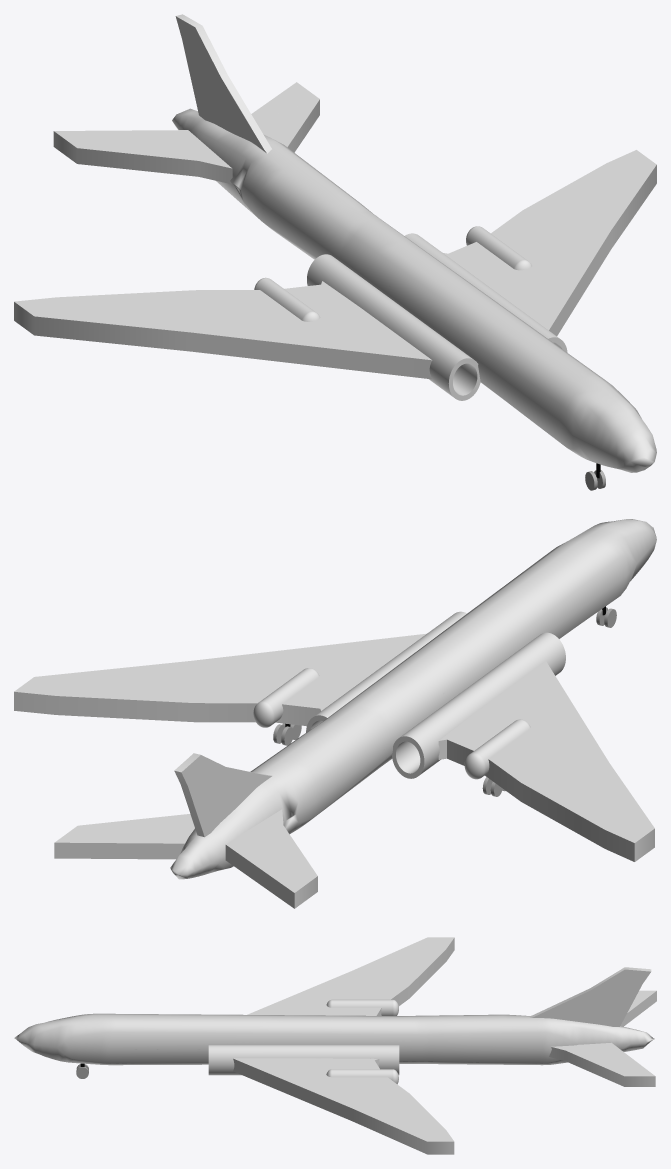
The model's file is geofs tupolev 104.glb.
3 views of the same model, one above another, from view 1: azimuth 30°, elevation 25°; view 2: azimuth 150°, elevation 25°; view 3: azimuth 270°, elevation 25° (orthographic). The views are drawn at different scales.
Visible parts, largest first — view 1: object 9, object 13, object 7, object 5, object 11, object 4, object 6, object 10, object 8, object 12; view 2: object 9, object 7, object 13, object 11, object 6, object 5, object 4, object 10, object 8, object 12; view 3: object 9, object 7, object 13, object 4, object 10, object 6, object 12, object 8, object 5.
Part boxes in pixels (x1=…): object 9: x1=172, y1=108, x2=656, y2=472; object 13: x1=14, y1=281, x2=432, y2=379; object 7: x1=443, y1=150, x2=656, y2=335; object 5: x1=53, y1=130, x2=232, y2=184; object 11: x1=307, y1=254, x2=480, y2=400; object 4: x1=175, y1=14, x2=271, y2=153; object 6: x1=251, y1=82, x2=319, y2=152; object 10: x1=405, y1=233, x2=567, y2=352; object 8: x1=466, y1=226, x2=531, y2=270; object 12: x1=254, y1=277, x2=320, y2=321; object 9: x1=170, y1=519, x2=656, y2=879; object 7: x1=14, y1=633, x2=426, y2=726; object 13: x1=438, y1=661, x2=654, y2=861; object 11: x1=392, y1=632, x2=565, y2=778; object 6: x1=54, y1=814, x2=194, y2=859; object 5: x1=225, y1=809, x2=317, y2=908; object 4: x1=174, y1=753, x2=271, y2=837; object 10: x1=306, y1=611, x2=466, y2=732; object 8: x1=253, y1=668, x2=319, y2=727; object 12: x1=464, y1=719, x2=530, y2=779; object 9: x1=14, y1=1013, x2=654, y2=1065; object 7: x1=233, y1=1058, x2=454, y2=1154; object 13: x1=247, y1=937, x2=454, y2=1015; object 4: x1=529, y1=967, x2=651, y2=1026; object 10: x1=208, y1=1045, x2=399, y2=1075; object 6: x1=549, y1=1042, x2=655, y2=1086; object 12: x1=326, y1=999, x2=398, y2=1015; object 8: x1=326, y1=1069, x2=398, y2=1084; object 5: x1=620, y1=990, x2=656, y2=1026.
Size of the model in its own units: 0.335 by 0.085 by 0.446.
13 materials, 13 textured.
